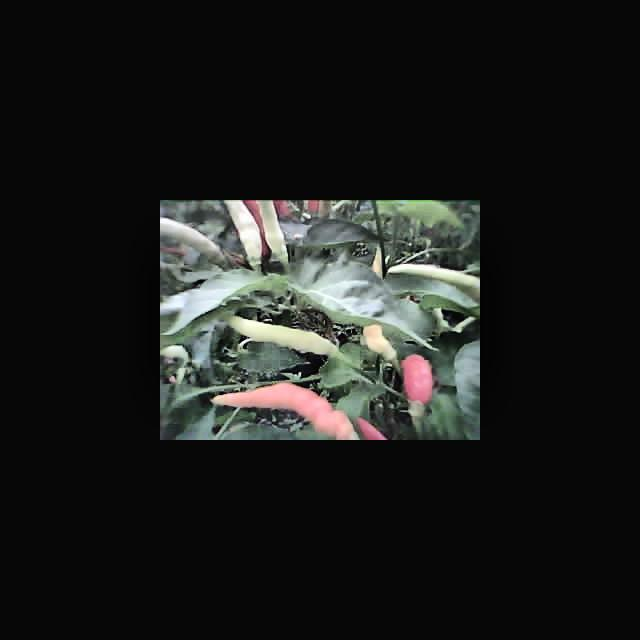Cabai: (212, 381, 353, 440), (408, 352, 435, 414)
